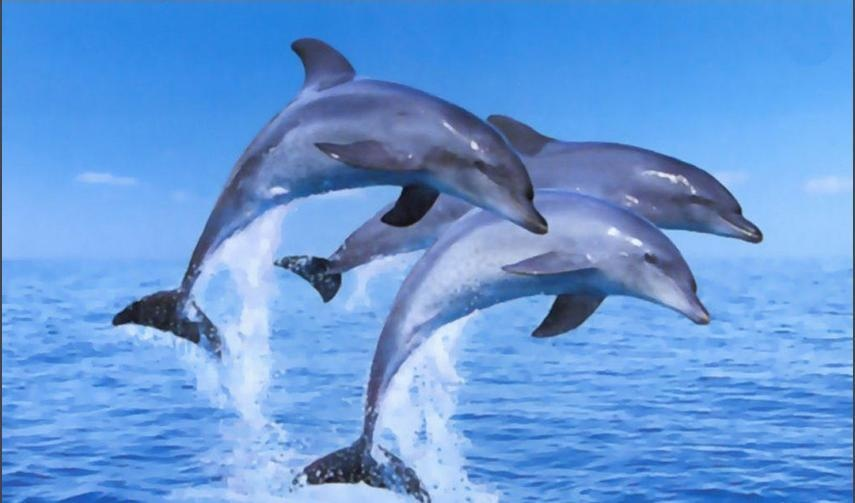fish: (111, 37, 550, 366), (298, 195, 714, 493), (275, 111, 764, 299)
